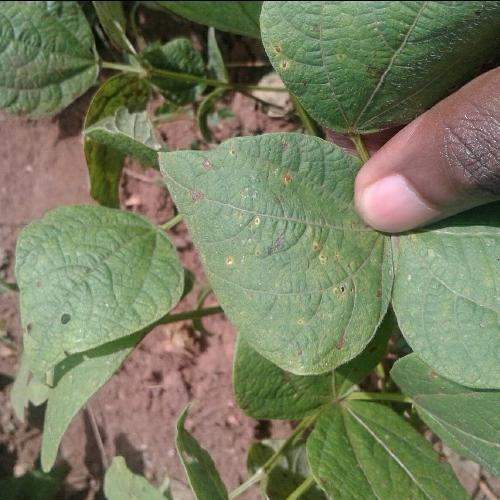embun tepung: (222, 168, 362, 343)
sehat: (7, 267, 138, 397)
